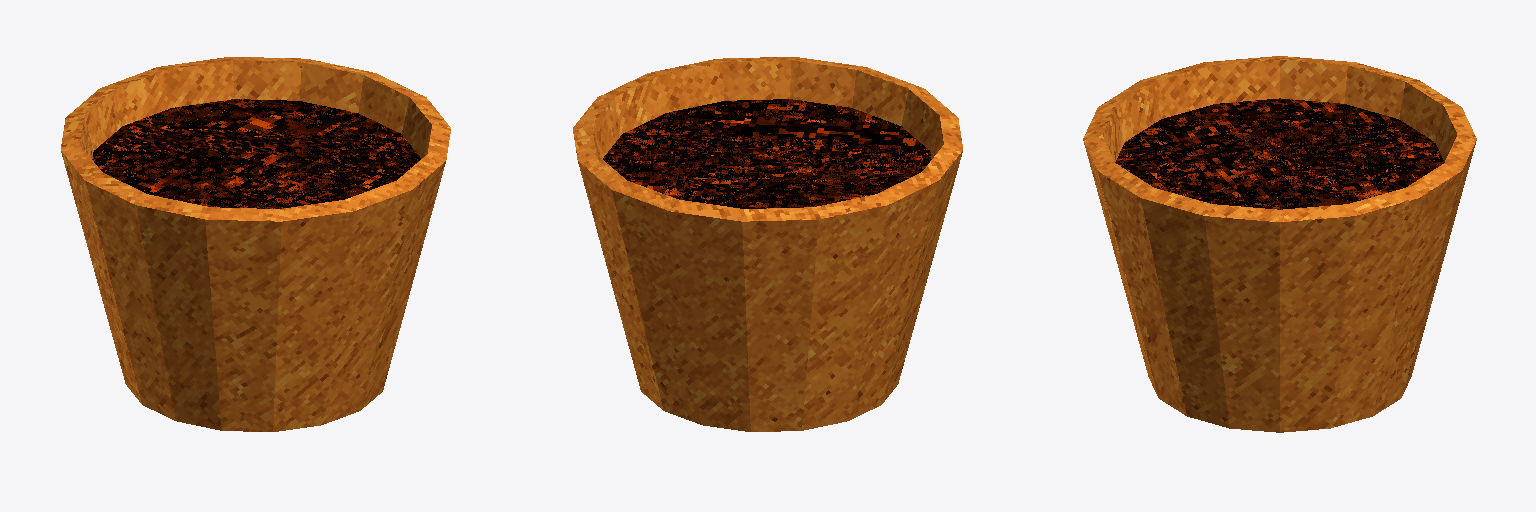
3 views of the same model, side by side, from view 1: azimuth 30°, elevation 25°; view 2: azimuth 150°, elevation 25°; view 3: azimuth 270°, elevation 25° (orthographic).
Visible parts, largest first — view 1: Cylinder1, Cylinder1_extract2; view 2: Cylinder1, Cylinder1_extract2; view 3: Cylinder1, Cylinder1_extract2.
Part boxes in pixels (x1,y1,x2,y2): Cylinder1: (61, 57, 450, 431); Cylinder1_extract2: (92, 99, 420, 208); Cylinder1: (573, 57, 962, 431); Cylinder1_extract2: (603, 99, 931, 208); Cylinder1: (1083, 56, 1476, 432); Cylinder1_extract2: (1115, 98, 1444, 209).
Size of the model in its own units: 3 by 2.04 by 3.
Materials: 2 (2 with a texture image).